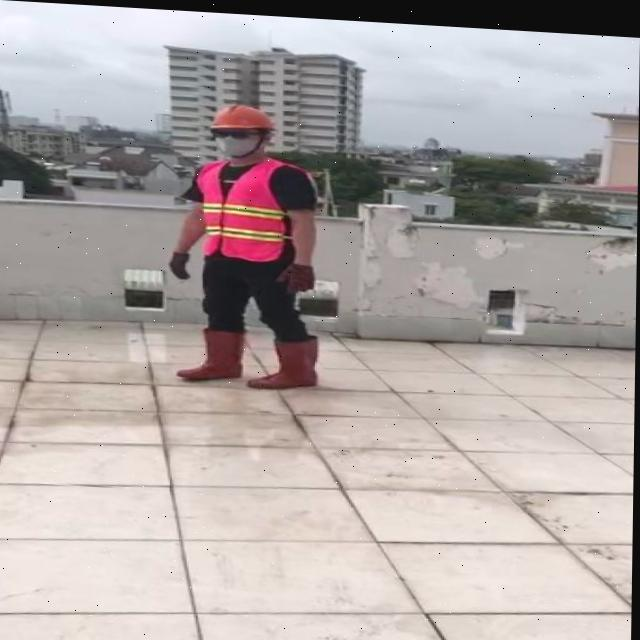Gloves: (278, 258, 315, 291), (169, 249, 191, 277)
Helmet: (209, 99, 276, 131)
Safety-Boot: (247, 327, 320, 388), (176, 321, 246, 380)
Safety-Vest: (192, 150, 314, 263)
